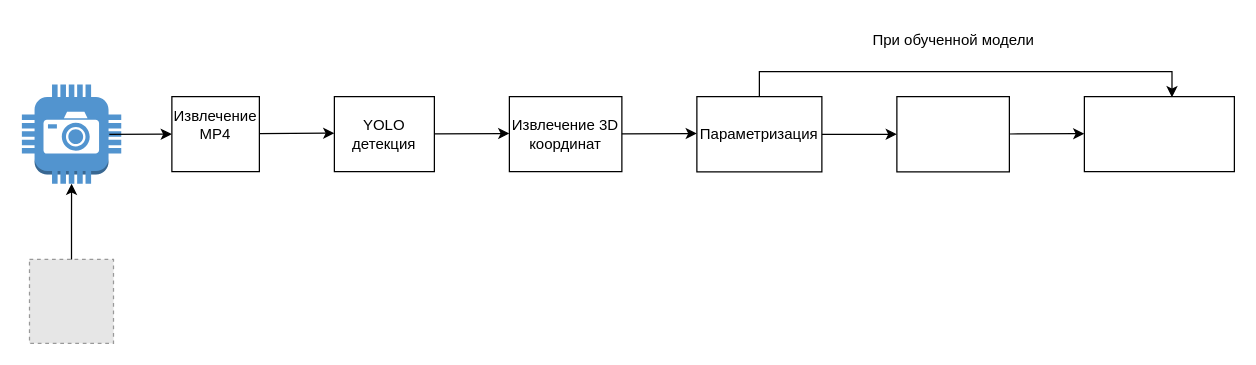
Some shapes in this 1256 by 365 pixel diagram are drawn without their labels. Grey dashed boxes stand in for pictures. The shapes that lost their labels are listed below. From the top down, each one's centre as x and y in pixels, then its label:
At (952,133): "Обучение модели".
At (1158,133): "Предсказание".
